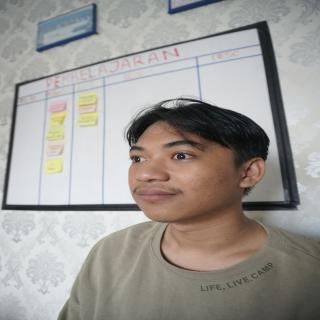Marah: (122, 118, 232, 222)
